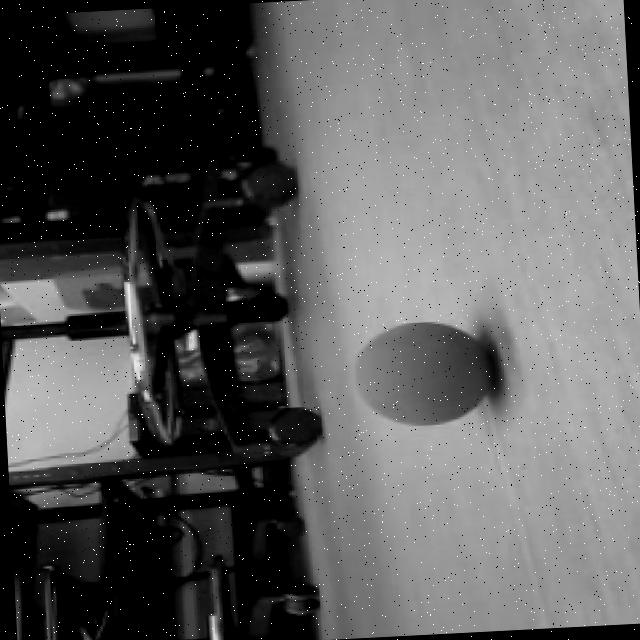ping-pong-ball: (347, 317, 498, 428)
